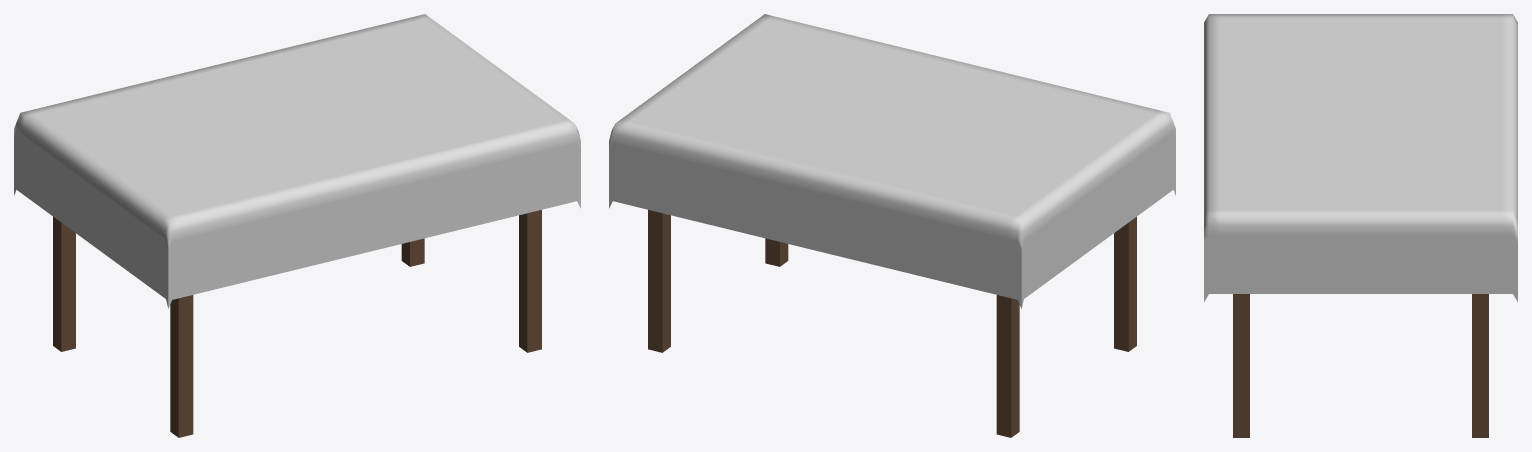
The model's file is tablecloth.glb.
The picture shows the model from 3 angles, left to right: view 1: azimuth 30°, elevation 25°; view 2: azimuth 150°, elevation 25°; view 3: azimuth 270°, elevation 25°; orthographic projection.
Size of the model in its own units: 1.42 by 0.755 by 0.92.
